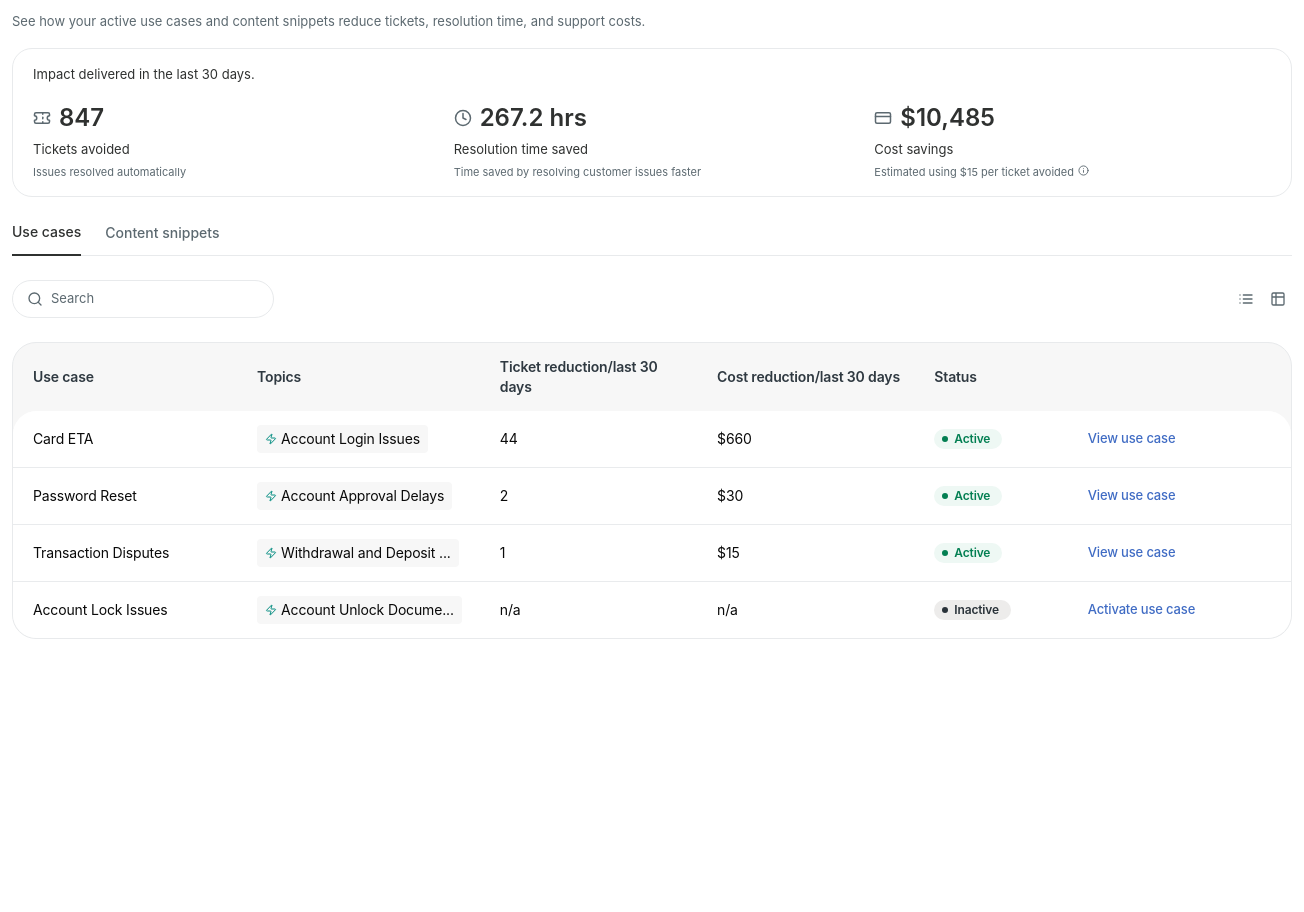
Test: RealizedImpactView › defaults to Use cases and switches metrics and rows with Content snippets
Check: the text "847" is shown, box [33, 103, 104, 132]
Check: the text "Card ETA" is shown, box [13, 410, 243, 468]
Click the tab "Content snippets" at (162, 238), box [105, 221, 219, 255]
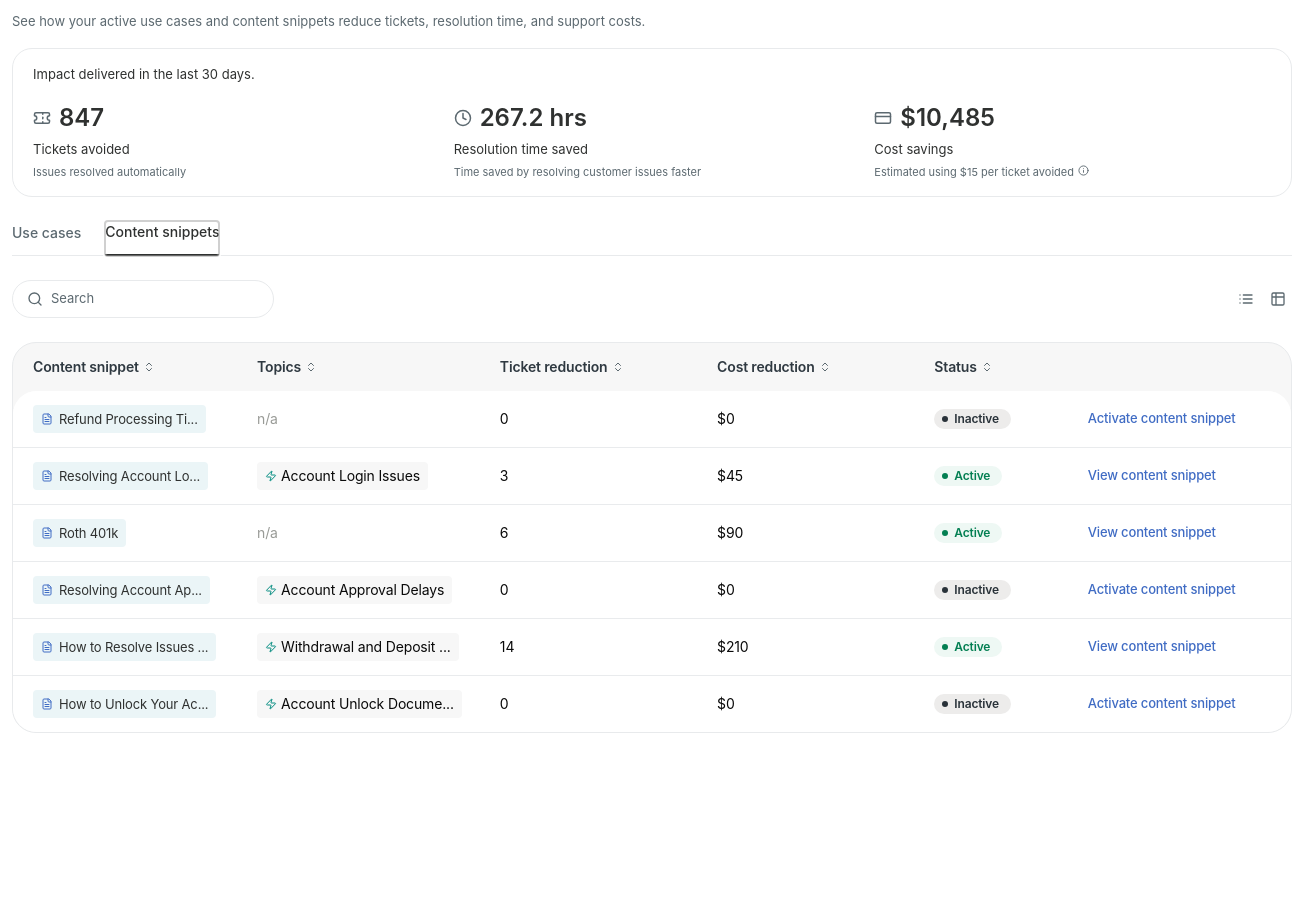
Check: the text "847" is shown, box [33, 103, 104, 132]
Check: the text "Refund Processing Ti..." is shown, box [59, 408, 198, 428]
Check: the text "Card ETA" is gone
